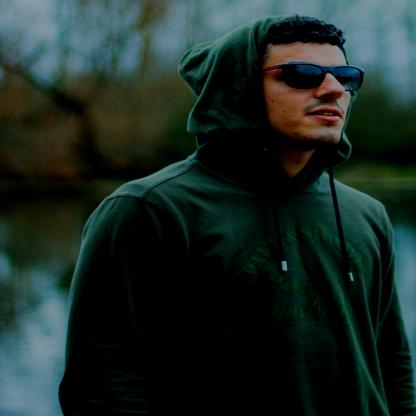dress: (57, 3, 416, 416)
